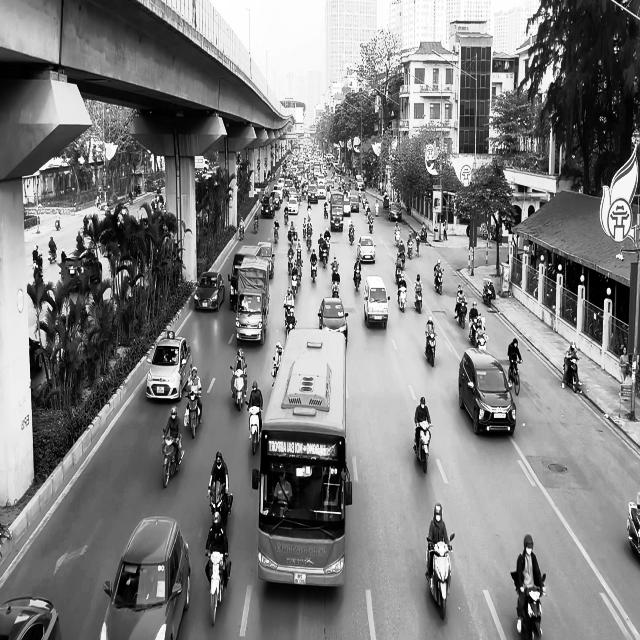bus: (252, 327, 353, 588)
car: (100, 515, 191, 639), (458, 347, 517, 436), (146, 331, 192, 402), (0, 596, 62, 640), (318, 297, 349, 348), (364, 275, 390, 329), (194, 270, 225, 311), (256, 241, 275, 279), (358, 235, 377, 263)
motorbike: (425, 533, 455, 620), (511, 571, 546, 639), (205, 548, 231, 626), (162, 430, 184, 488), (413, 421, 433, 473), (209, 487, 233, 530), (246, 402, 263, 454), (230, 364, 248, 412), (184, 392, 202, 438), (562, 356, 583, 394), (508, 356, 522, 394), (425, 332, 437, 367), (483, 279, 495, 306), (456, 301, 468, 328), (434, 267, 444, 295), (397, 284, 407, 312), (33, 253, 43, 280), (415, 286, 423, 313), (354, 265, 362, 291), (48, 245, 58, 263)
